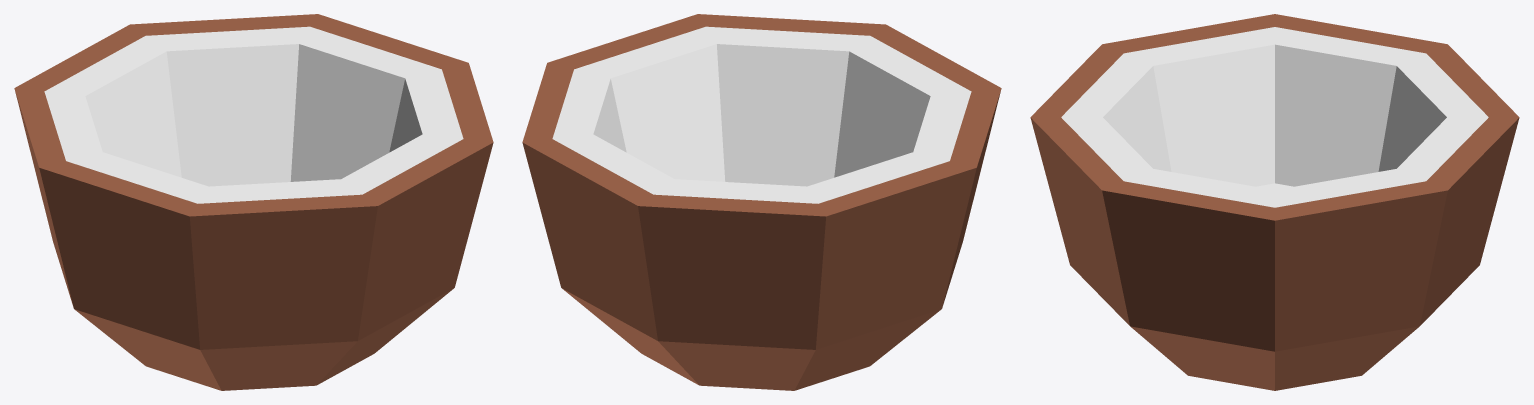
Rendered from coconutHalf.obj.
3 renders of one model, left to right at view 1: azimuth 30°, elevation 25°; view 2: azimuth 150°, elevation 25°; view 3: azimuth 270°, elevation 25°, orthographic.
Parts seen in each view (by area): view 1: coconutHalf; view 2: coconutHalf; view 3: coconutHalf.
Boxes of the visible parts, x1,y1,x2,y2 form: coconutHalf: (14, 14, 493, 390); coconutHalf: (522, 14, 1001, 390); coconutHalf: (1030, 14, 1519, 390).
Bounding box in the file's own units: 0.2484 × 0.1242 × 0.2484.
